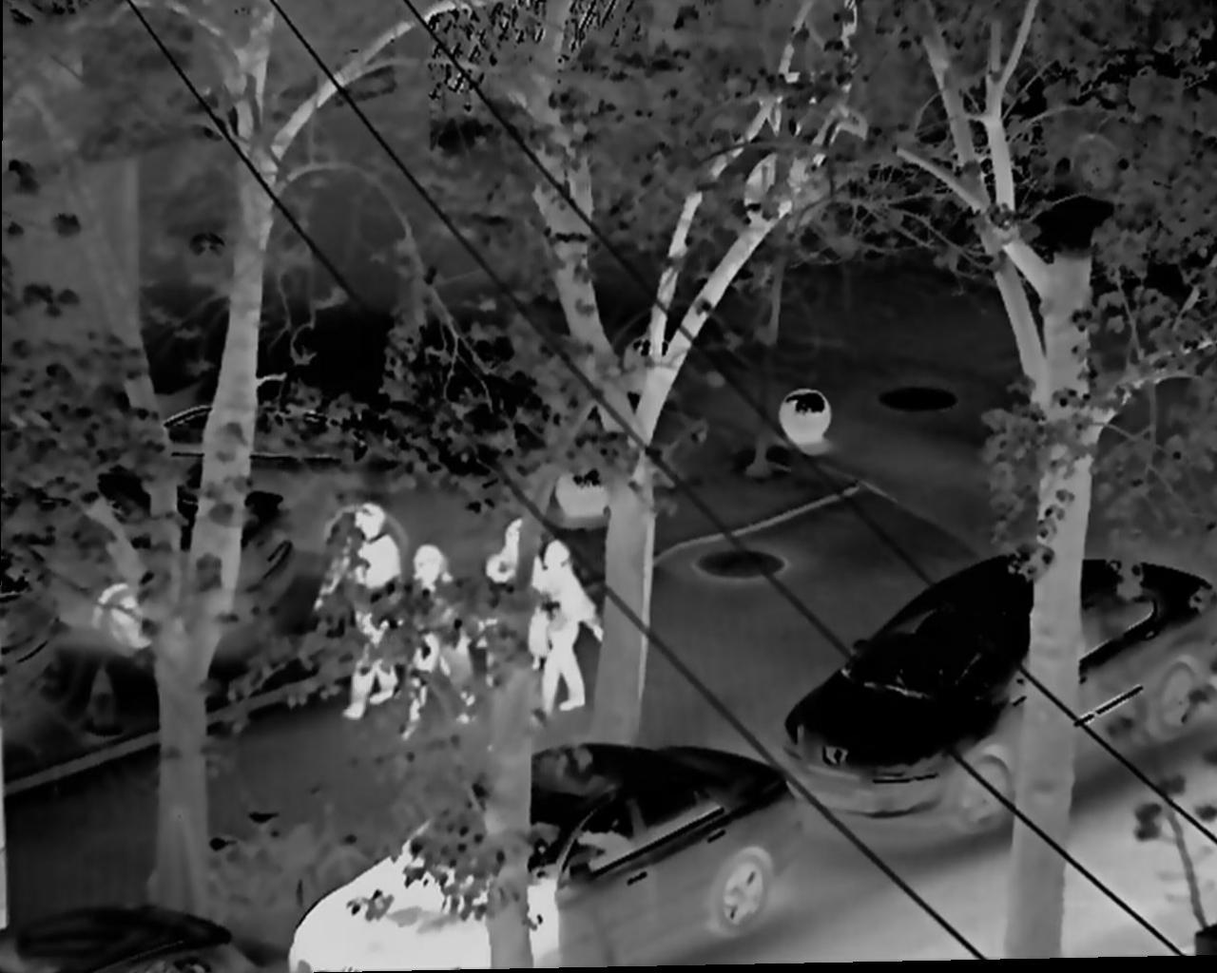person: (315, 505, 407, 722), (528, 521, 610, 710), (396, 538, 469, 731), (486, 504, 546, 695)
